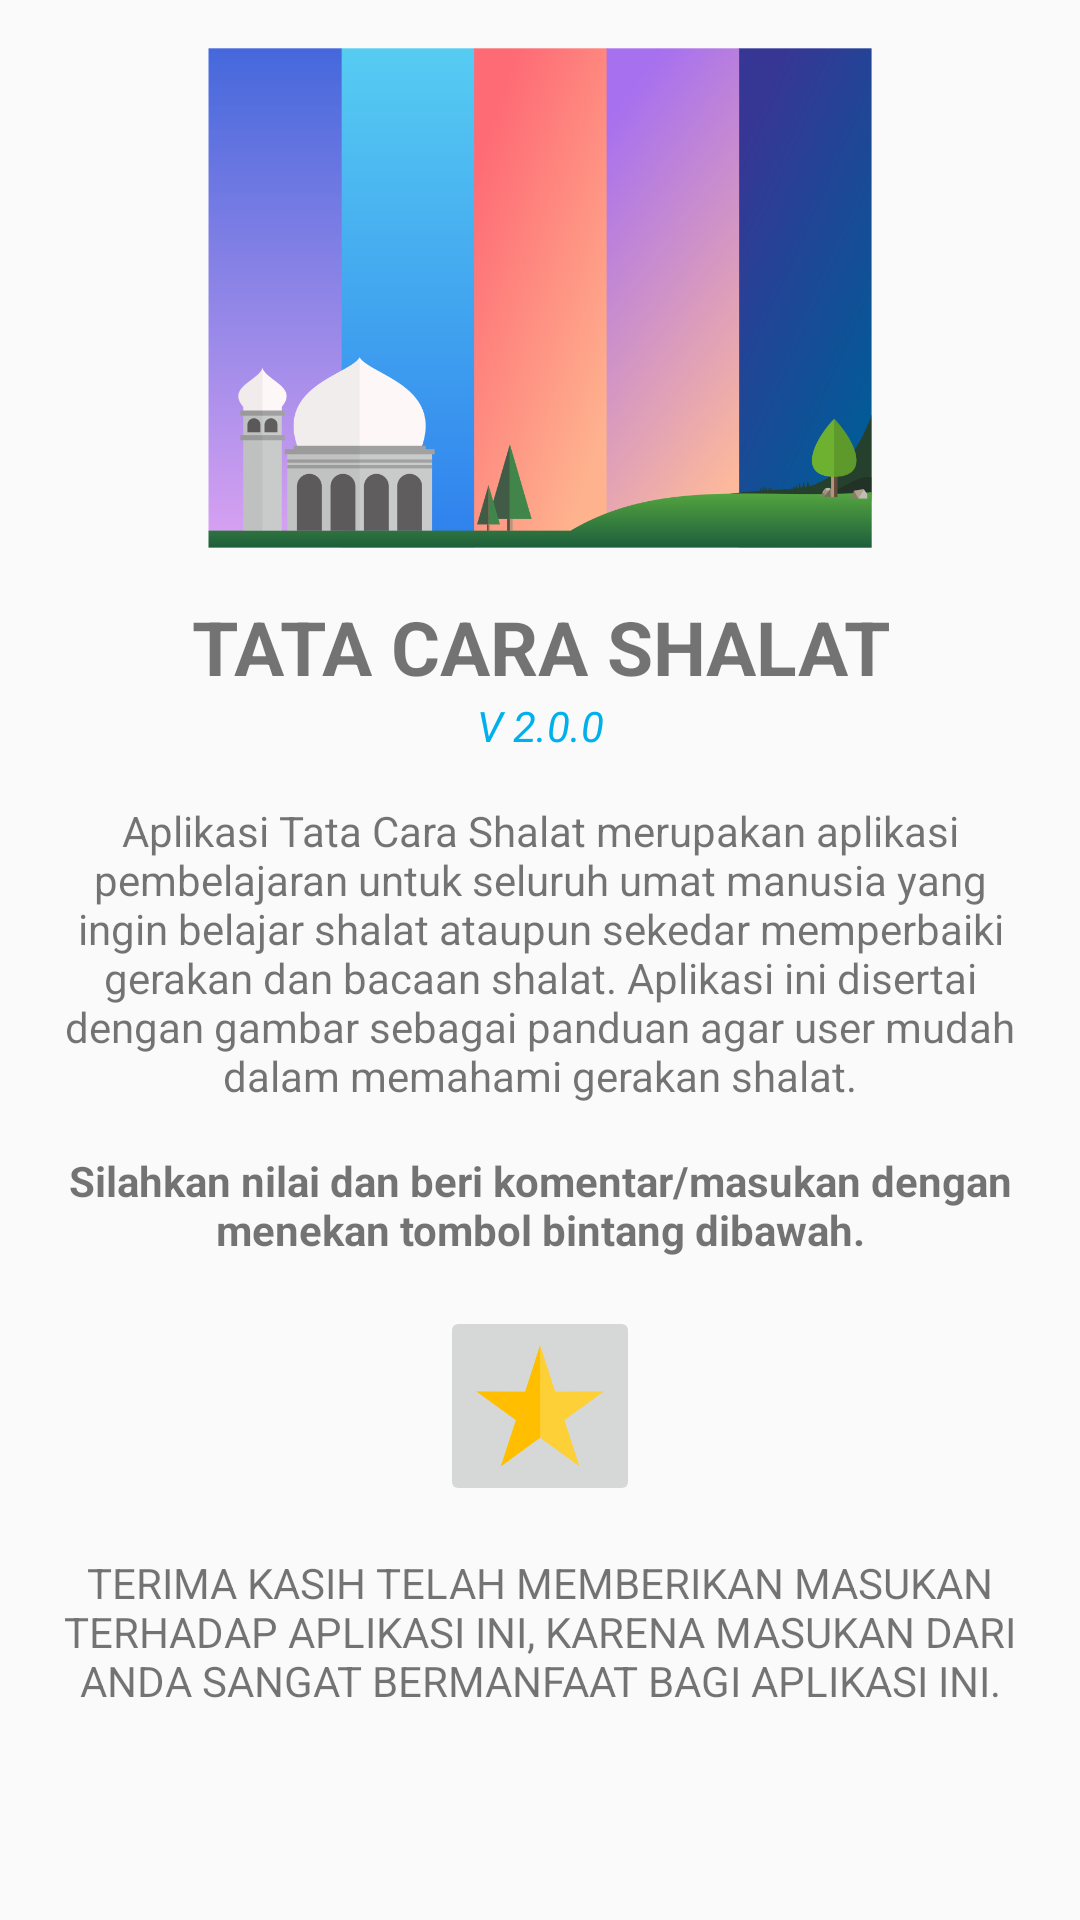

Icon bounding boxes for this 1080w x 1920h phone screenshot, format (x1, y1, x2, y2):
star: (452, 1324, 628, 1488)
